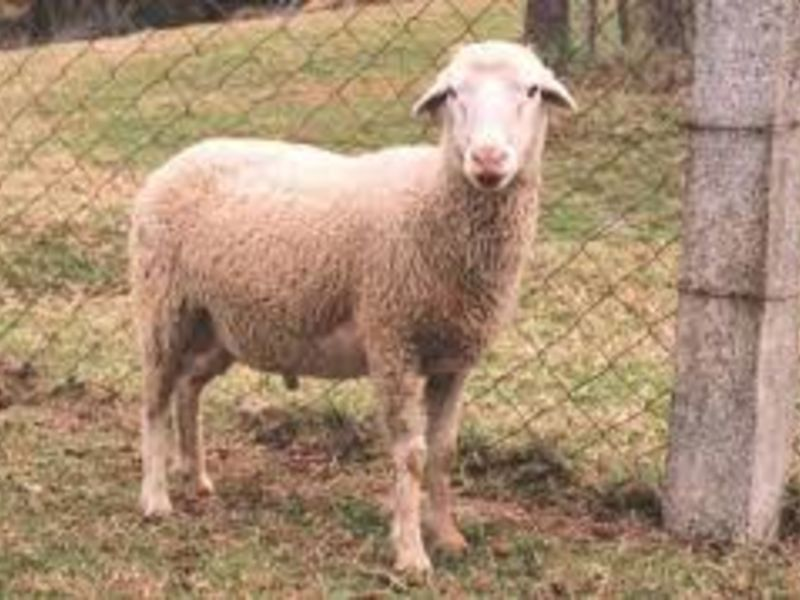sheep: (123, 35, 577, 592)
